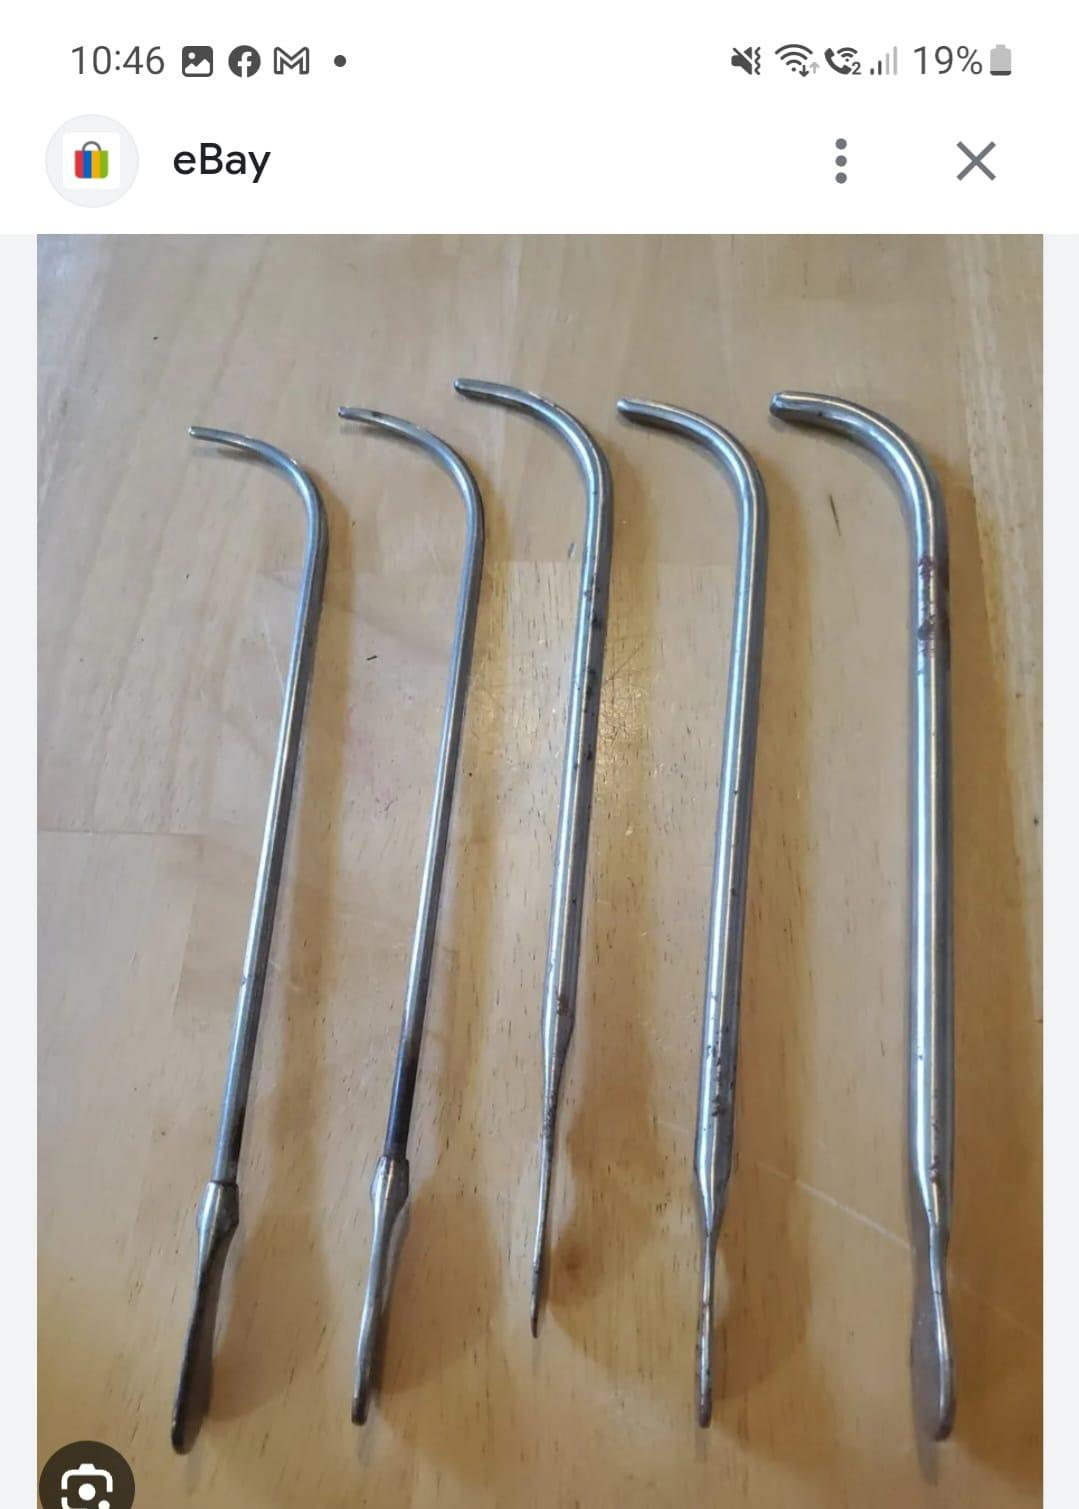Urethral Dilators: (767, 362, 980, 1455), (572, 399, 778, 1458), (138, 420, 335, 1455), (447, 355, 635, 1368), (318, 397, 465, 1442)
